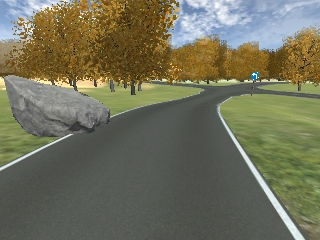left: (250, 73, 258, 80)
